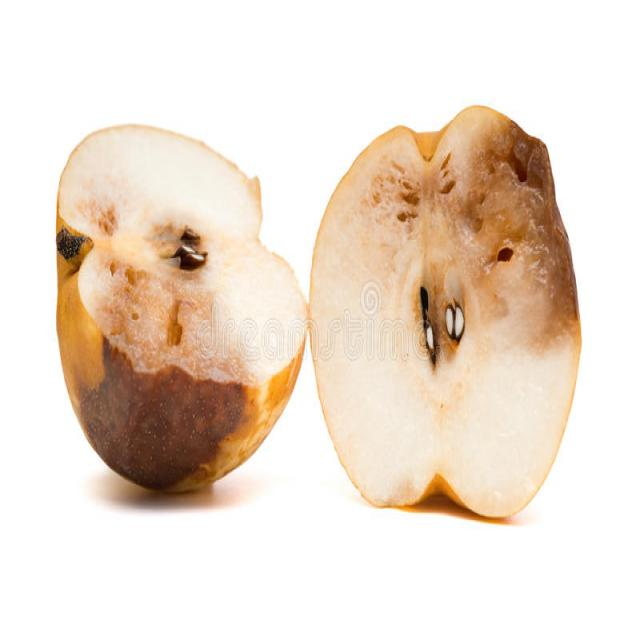Rotten: (307, 101, 585, 530), (44, 116, 310, 496)
